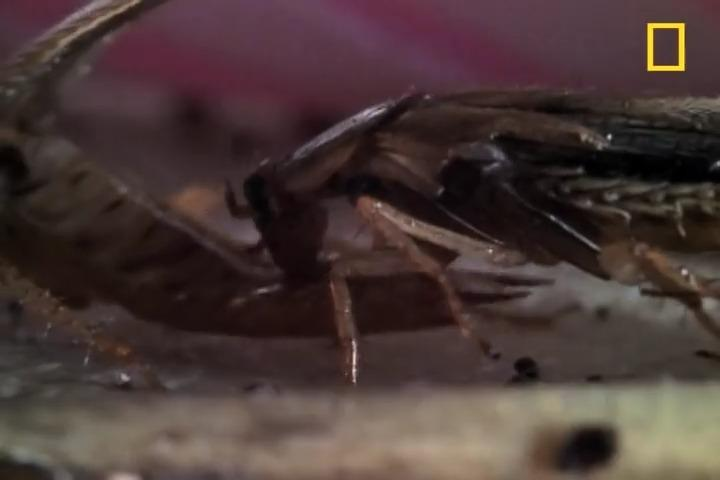cockroach: (178, 83, 720, 387)
